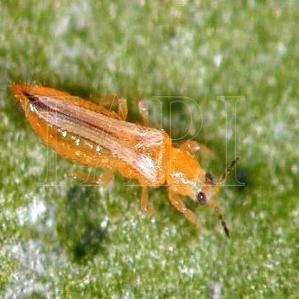melon thrips: (3, 52, 261, 264)
